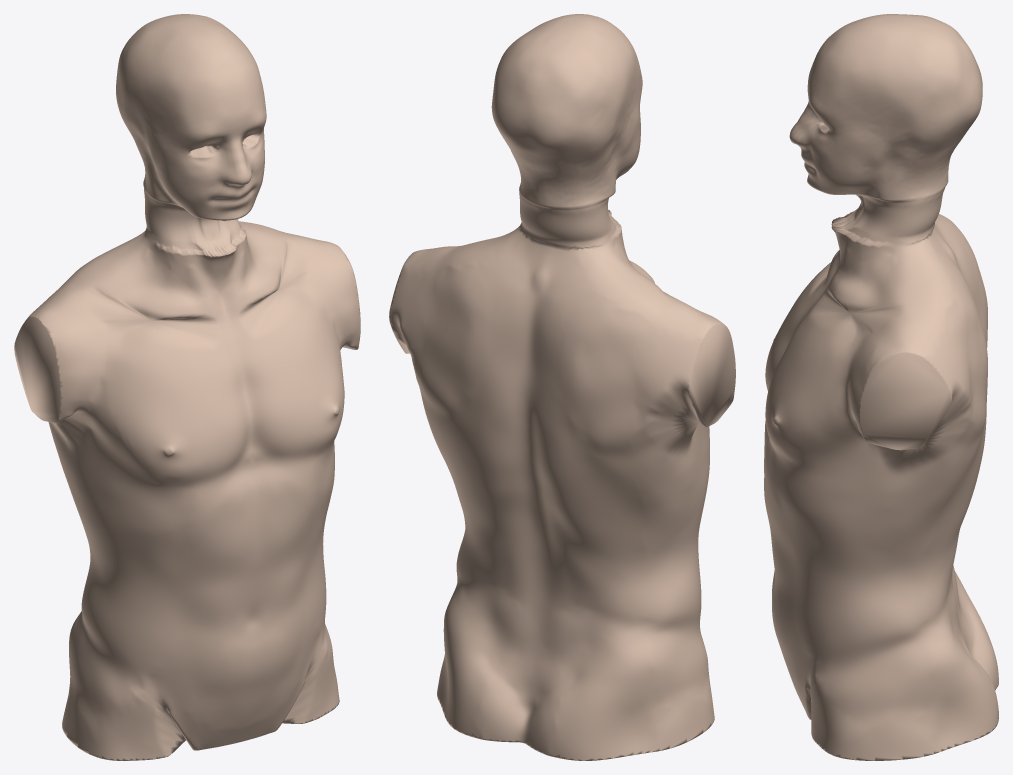
Rendered from head.glb.
3 renders of one model, left to right at view 1: azimuth 30°, elevation 25°; view 2: azimuth 150°, elevation 25°; view 3: azimuth 270°, elevation 25°, orthographic.
Visible parts, largest first — view 1: skin; view 2: skin; view 3: skin.
Boxes of the visible parts, left/top/right/bottom form: skin: left=14, top=14, right=360, bottom=760; skin: left=389, top=14, right=735, bottom=760; skin: left=764, top=14, right=998, bottom=760.
Bounding box in the file's own units: 0.41 × 0.8925 × 0.2798.
